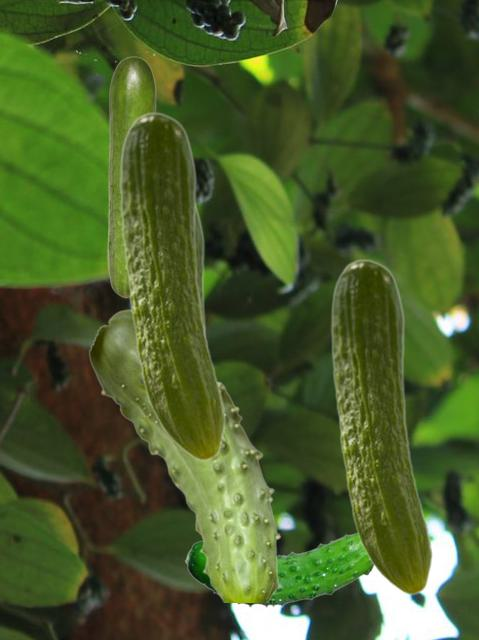cucumber: (88, 309, 281, 601), (119, 111, 225, 461), (330, 258, 432, 595), (184, 532, 373, 607), (107, 56, 155, 297), (197, 209, 209, 345)
